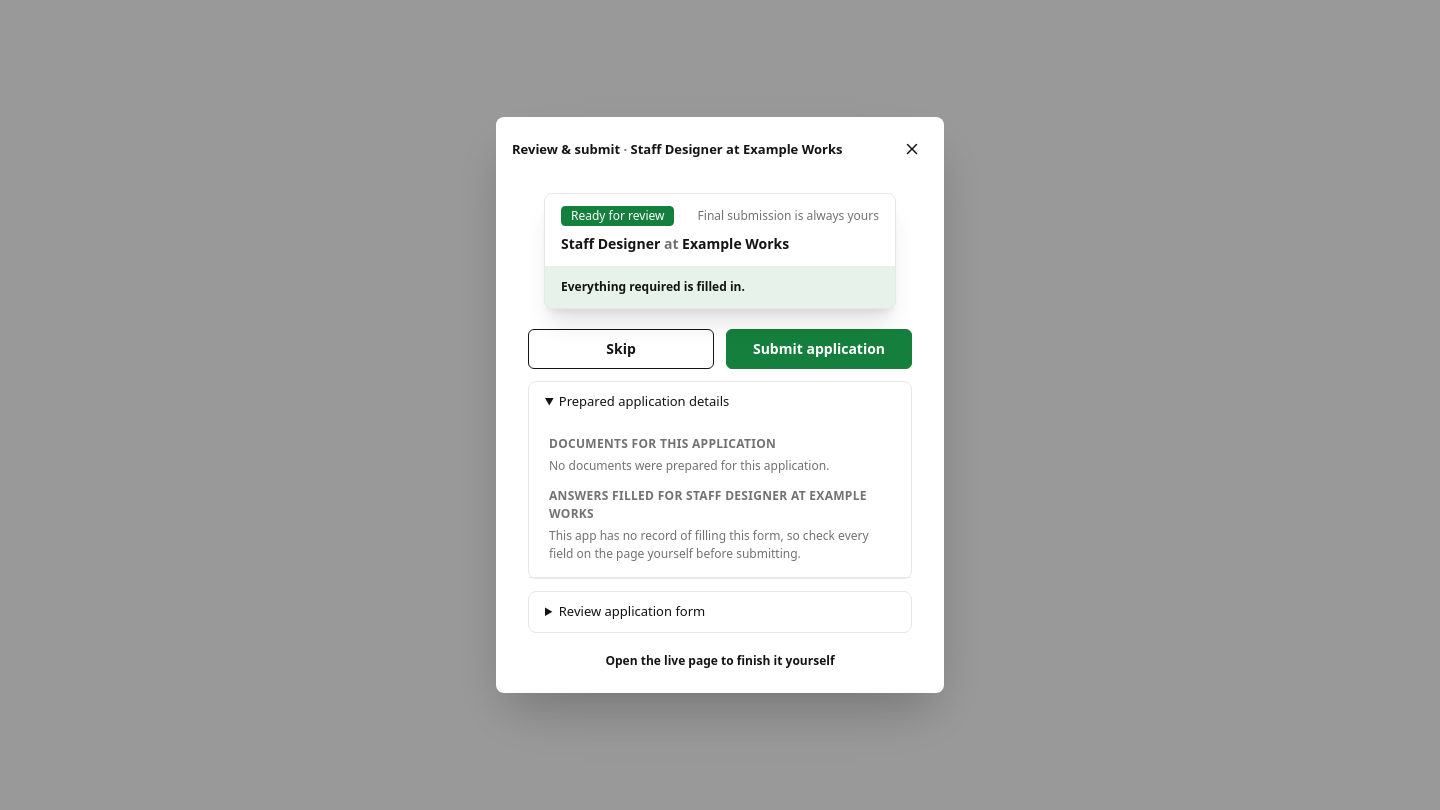
Test: ApplicationReviewSession error screen (#468) › reports an error thrown after the submit started as could not be confirmed, never as not sent
Click the button "Submit application": (819, 349) top-left (726, 329), bottom-right (912, 369)
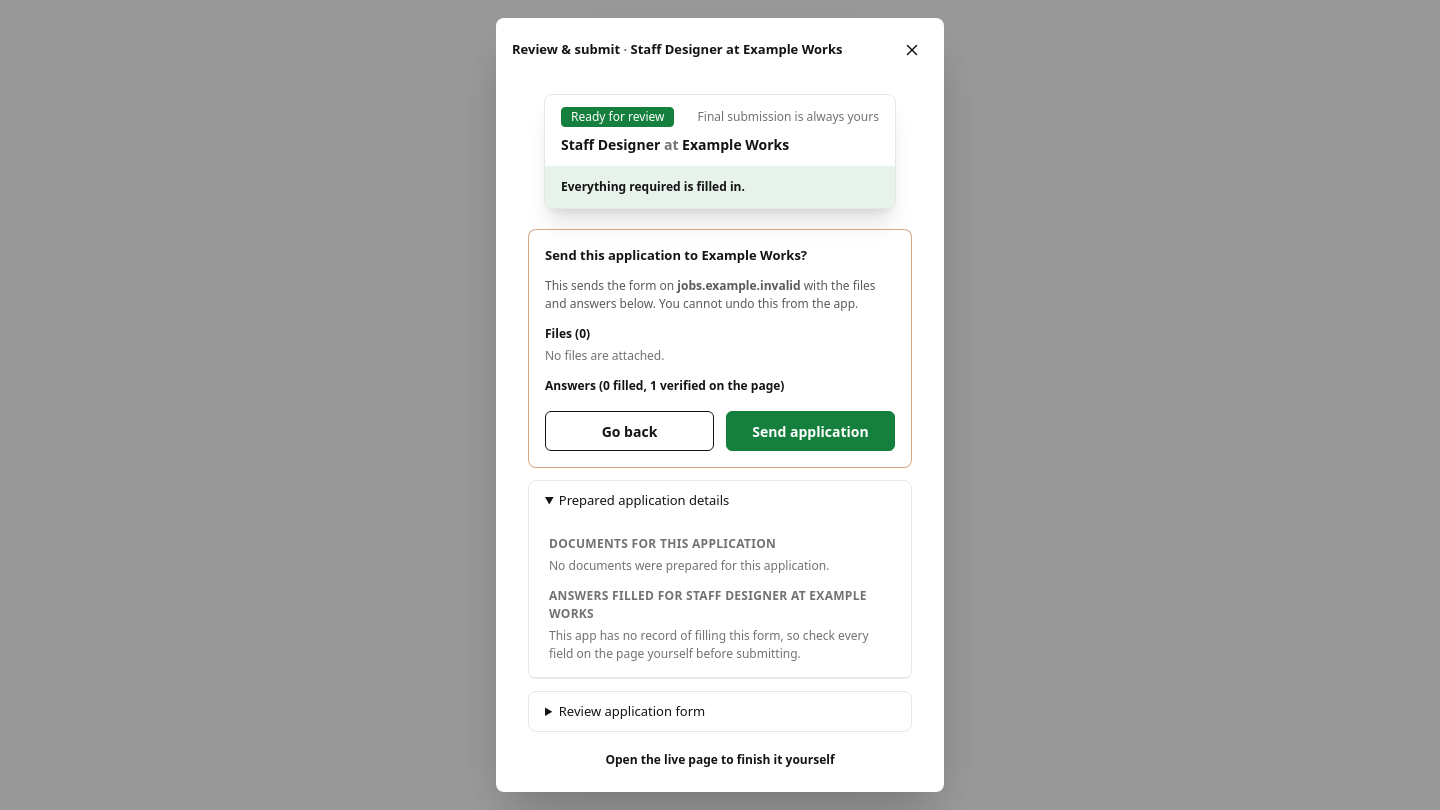
Click the button "Send application": (810, 431) top-left (726, 411), bottom-right (895, 451)
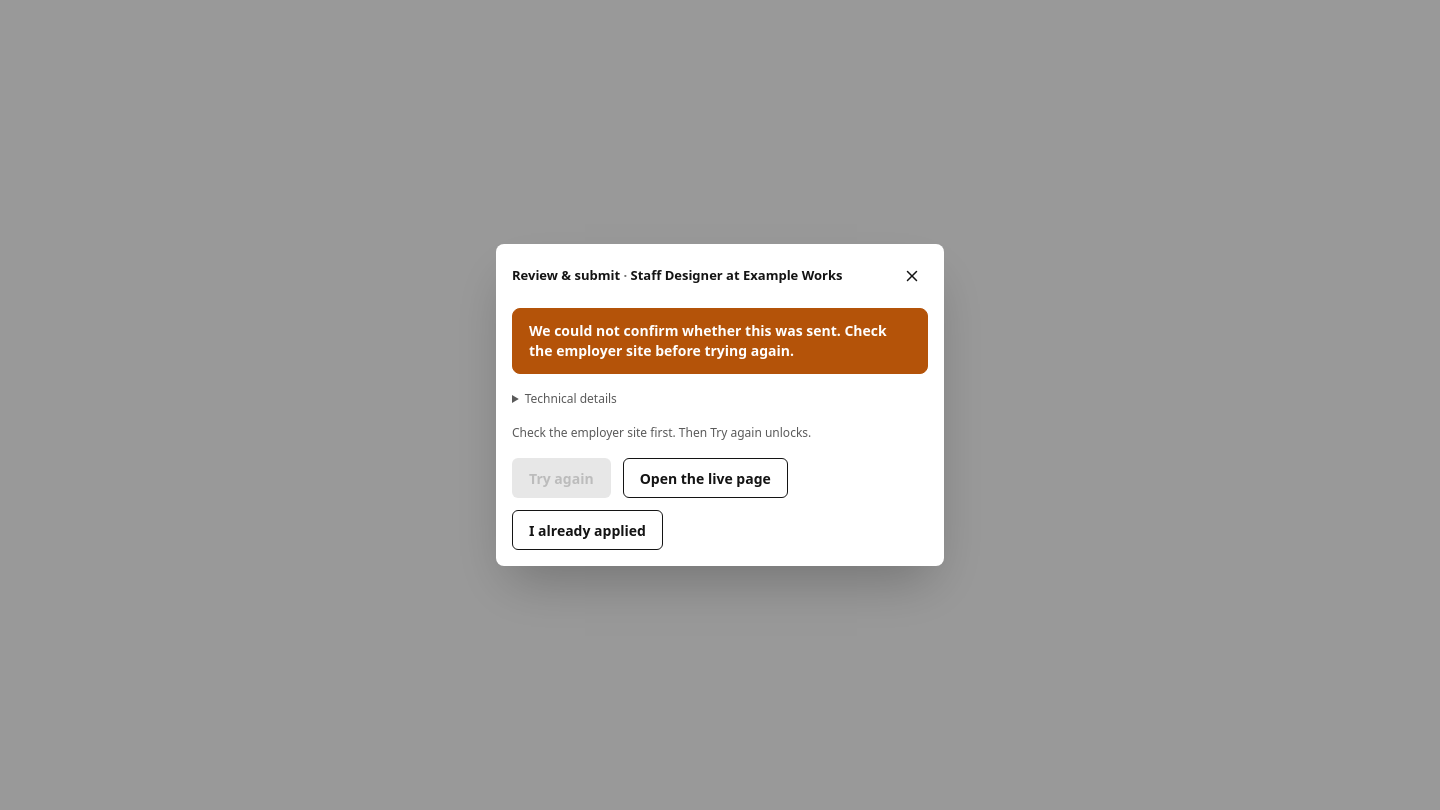
Check: the message does not show "Not sent.", box top-left (512, 308), bottom-right (928, 374)
Check: the message shows "We could not confirm whether this was sent.", box top-left (529, 321), bottom-right (887, 360)
